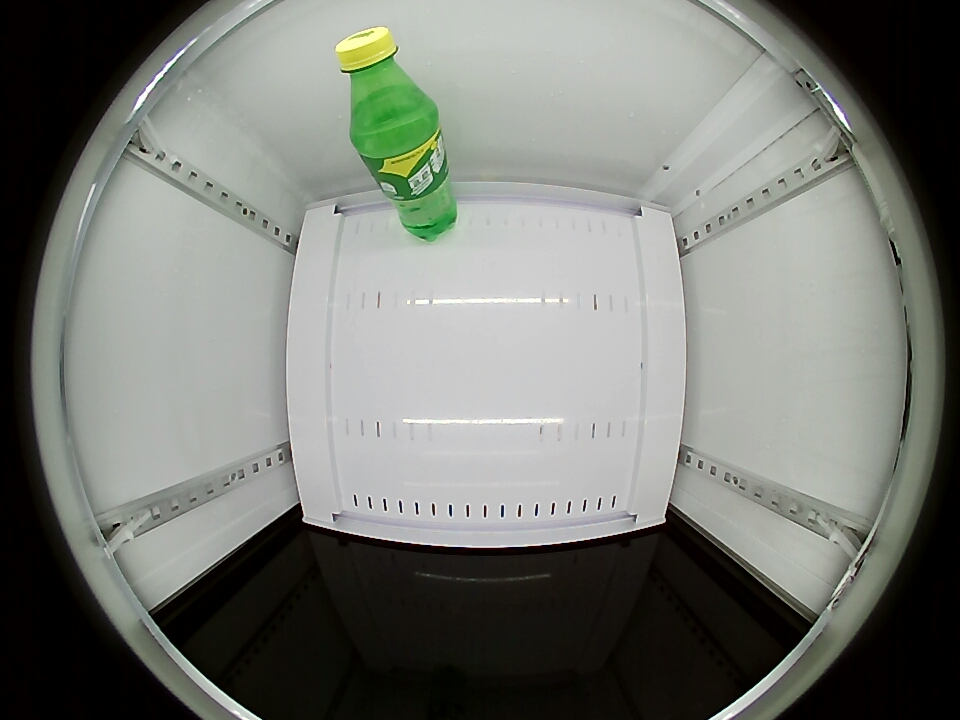xuebi-b: (337, 26, 434, 135)
